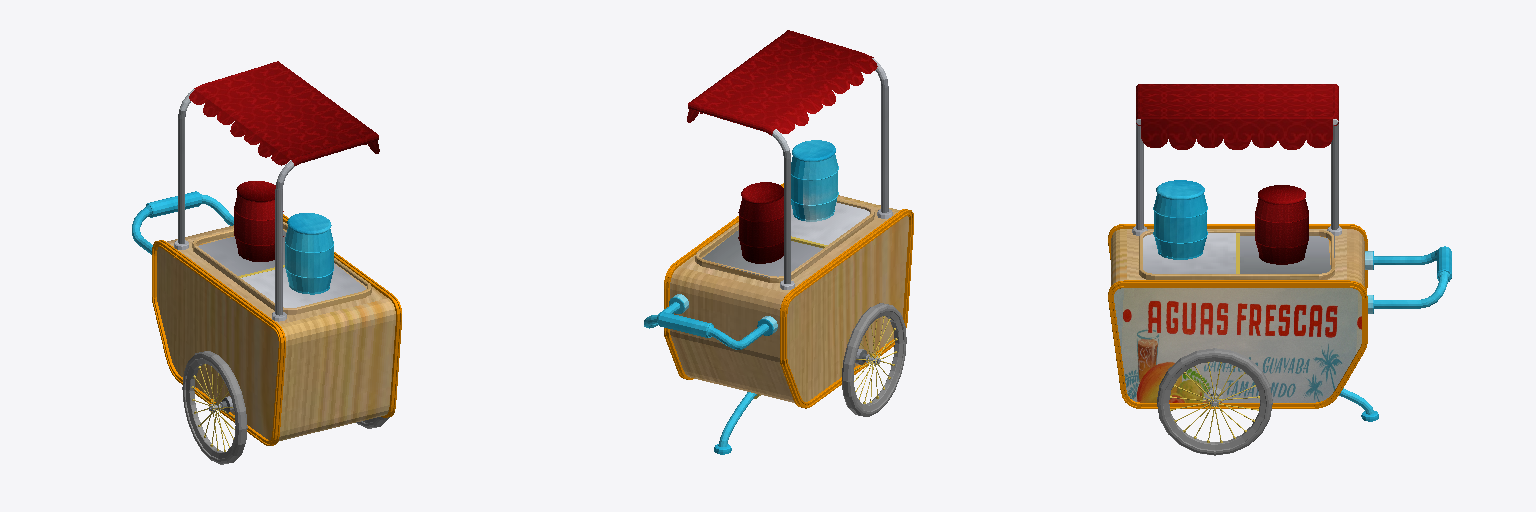
3 renders of one model, left to right at view 1: azimuth 30°, elevation 25°; view 2: azimuth 150°, elevation 25°; view 3: azimuth 270°, elevation 25°, orthographic.
Parts seen in each view (by area): view 1: cara_ic_01, Water_Drum, Water_Drum001; view 2: cara_ic_01, Water_Drum, Water_Drum001; view 3: cara_ic_01, Water_Drum001, Water_Drum.
Part boxes in pixels (bbox=[...]): cara_ic_01: bbox=[132, 61, 401, 464]; Water_Drum: bbox=[285, 213, 333, 294]; Water_Drum001: bbox=[234, 181, 283, 261]; cara_ic_01: bbox=[644, 30, 913, 454]; Water_Drum: bbox=[791, 140, 838, 221]; Water_Drum001: bbox=[738, 182, 783, 263]; cara_ic_01: bbox=[1108, 84, 1451, 455]; Water_Drum001: bbox=[1255, 185, 1308, 264]; Water_Drum: bbox=[1153, 180, 1207, 259].
Bounding box in the file's own units: 3.99 × 7.85 × 7.52.
8 materials, 6 textured.